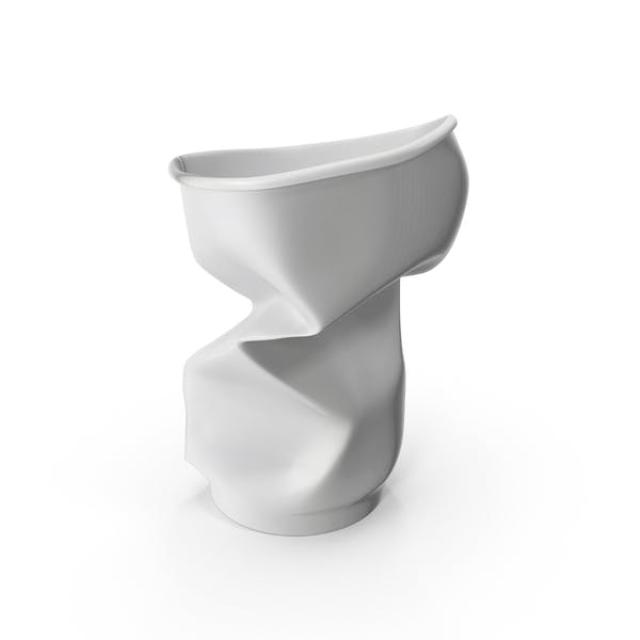trash: (171, 116, 469, 540)
